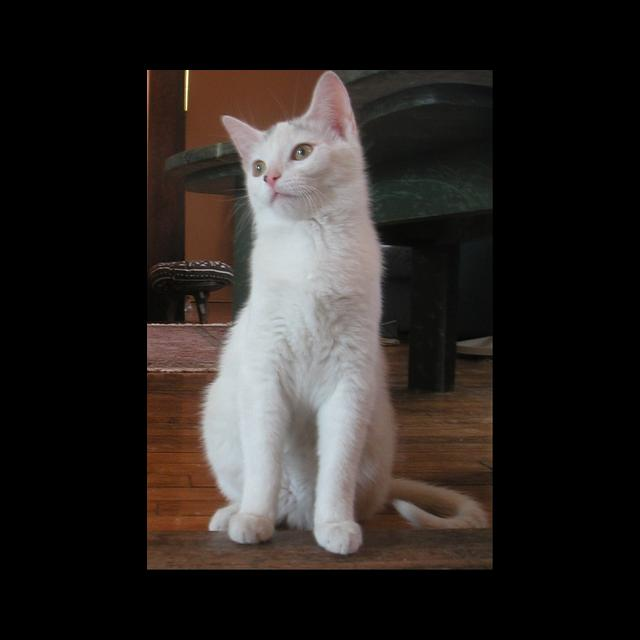animals: (224, 71, 357, 186)
